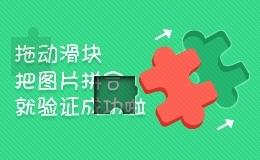target: (74, 57, 114, 95)
